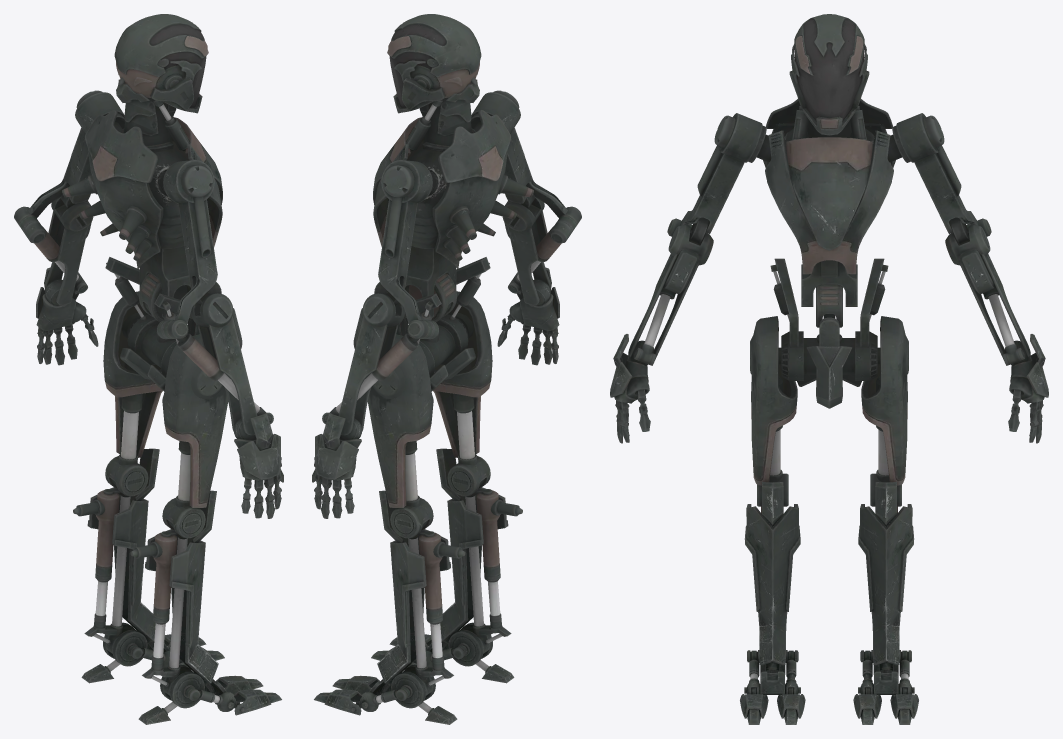
File: robot-optimized.glb
3 renders of one model, left to right at view 1: azimuth 30°, elevation 25°; view 2: azimuth 150°, elevation 25°; view 3: azimuth 270°, elevation 25°, orthographic.
Visible parts, largest first — view 1: Object_2; view 2: Object_2; view 3: Object_2.
Part boxes in pixels (<box>): Object_2: <box>14,14,283,724</box>; Object_2: <box>312,14,581,724</box>; Object_2: <box>610,14,1048,724</box>.
Bounding box in the file's own units: 0.4383 × 1.86 × 1.11.
1 material, 1 textured.
